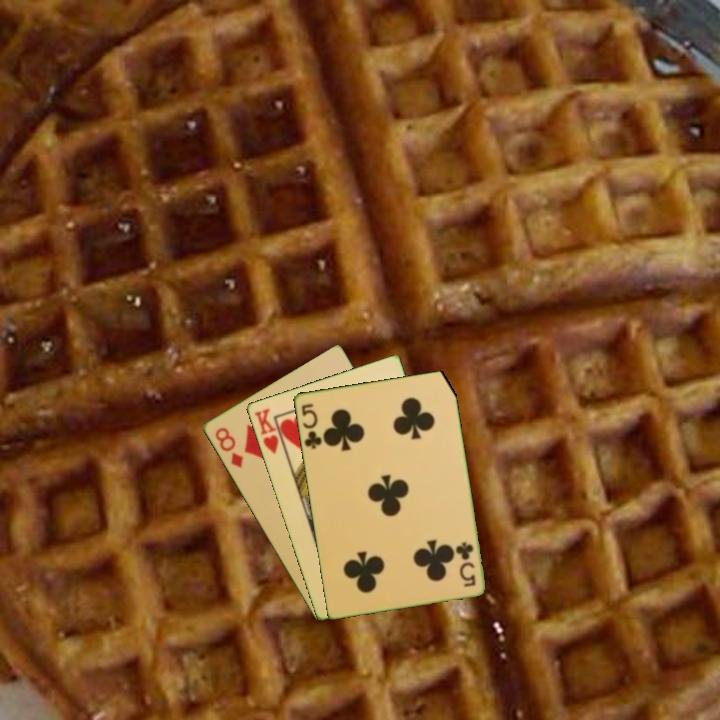5c: (297, 400, 324, 452), (453, 538, 478, 590)
8d: (211, 423, 246, 471)
Kh: (250, 405, 288, 457)
